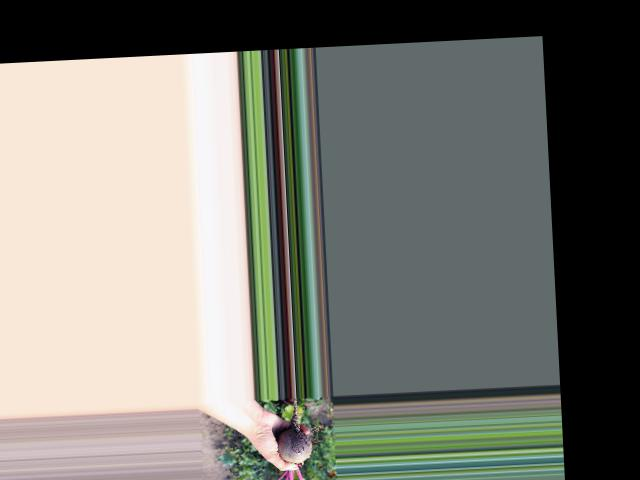beet: (261, 395, 328, 480)
